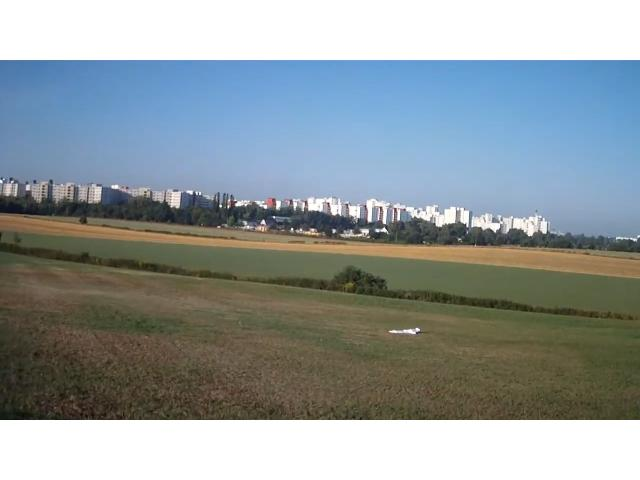Anti-Drone: (386, 317, 422, 345)
